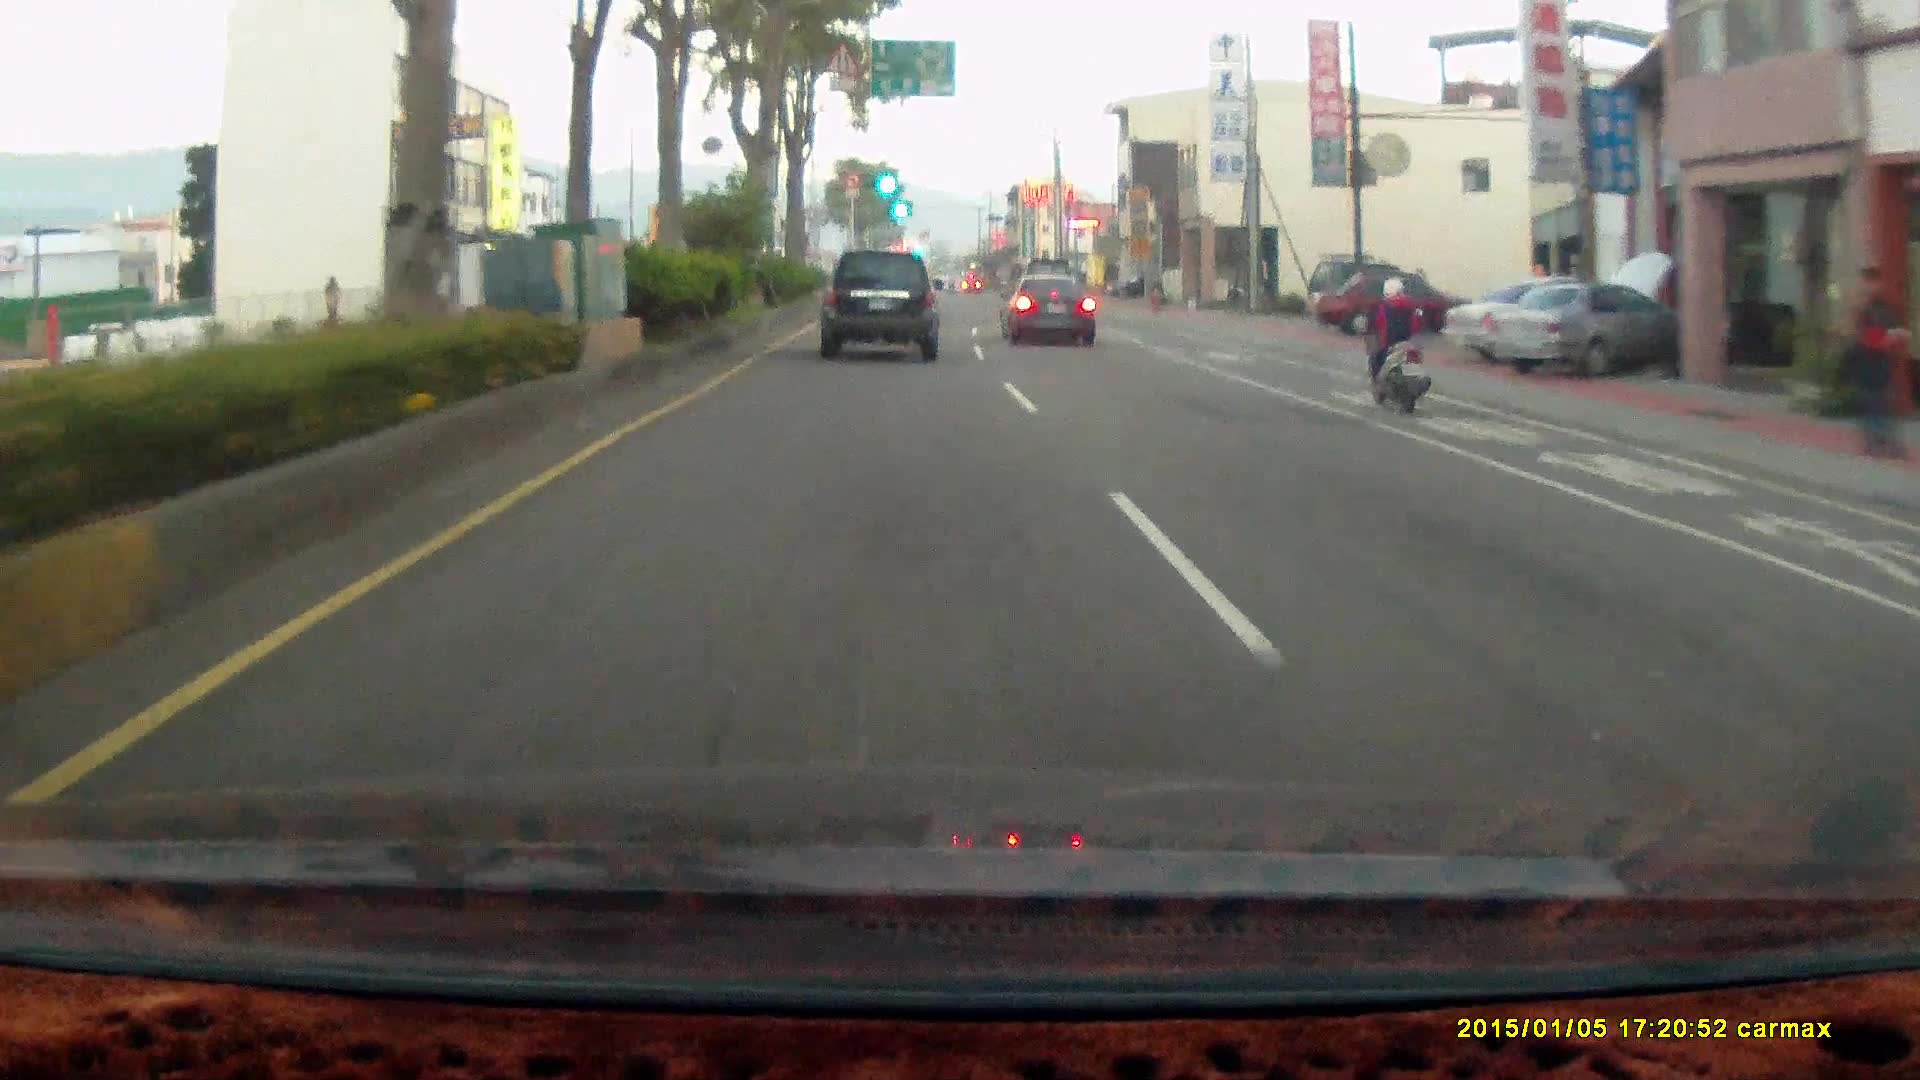pedestrian: (1834, 268, 1903, 462)
rider: (1353, 266, 1438, 428), (1359, 277, 1431, 414)
vehicle: (1485, 283, 1683, 378), (1485, 286, 1679, 380), (818, 255, 947, 370), (818, 251, 943, 360), (1311, 270, 1468, 341), (1315, 273, 1472, 337), (998, 273, 1096, 346), (1005, 275, 1101, 347), (1105, 277, 1159, 300)
